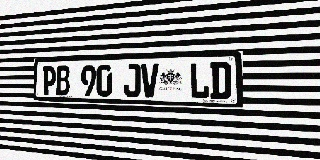0: (96, 65, 112, 97)
9: (81, 65, 96, 96)
B: (56, 66, 70, 96)
D: (210, 62, 231, 99)
J: (123, 64, 140, 97)
L: (189, 62, 209, 99)
P: (42, 66, 56, 95)
V: (141, 63, 159, 98)
